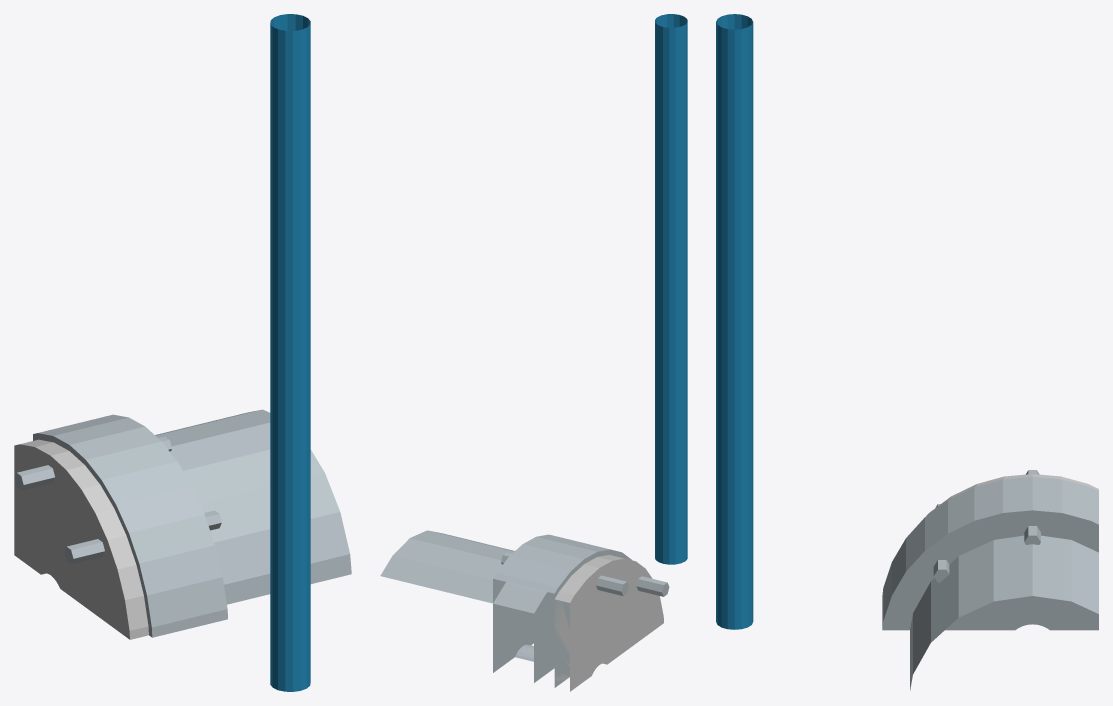
File: cell_42.obj
3 views of the same model, side by side, from view 1: azimuth 30°, elevation 25°; view 2: azimuth 150°, elevation 25°; view 3: azimuth 270°, elevation 25° (orthographic). The views are drawn at different scales.
Size of the model in its own units: 0.42 by 1 by 0.578.
